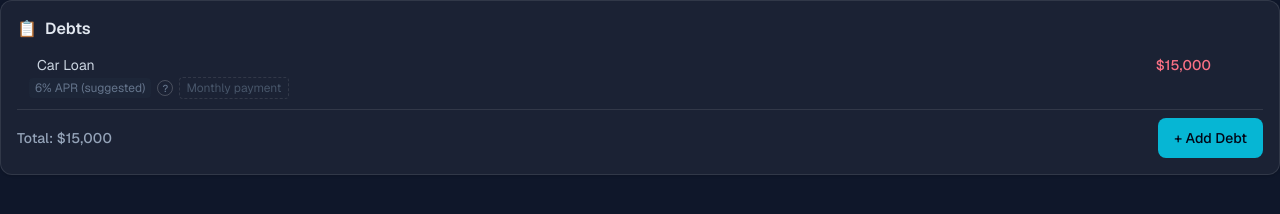
it: Debt interest rate and payment UI › allows editing monthly payment via click
Click the button with test id "debt-payment-badge-d1" at (234, 88), box [179,77,289,99]
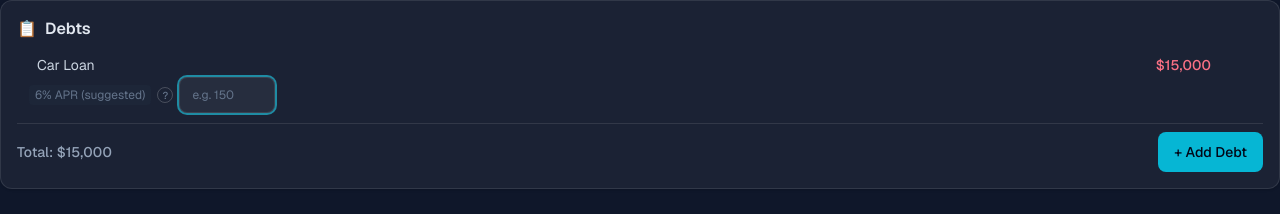
Now the field named "Edit monthly payment for Car Loan" is shown
Type "350" into the field named "Edit monthly payment for Car Loan" at (227, 95), box [179,77,275,113]
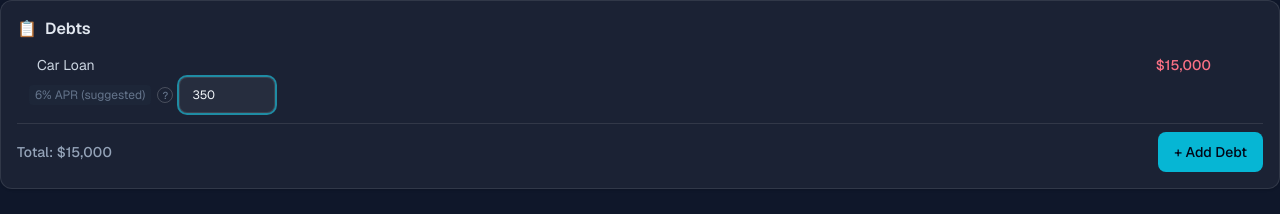
Press Enter
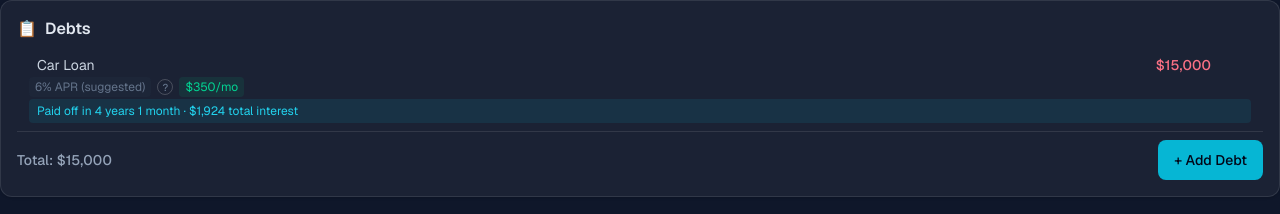
Now the button with test id "debt-payment-badge-d1" reads "$350/mo", box [179,77,244,97]
